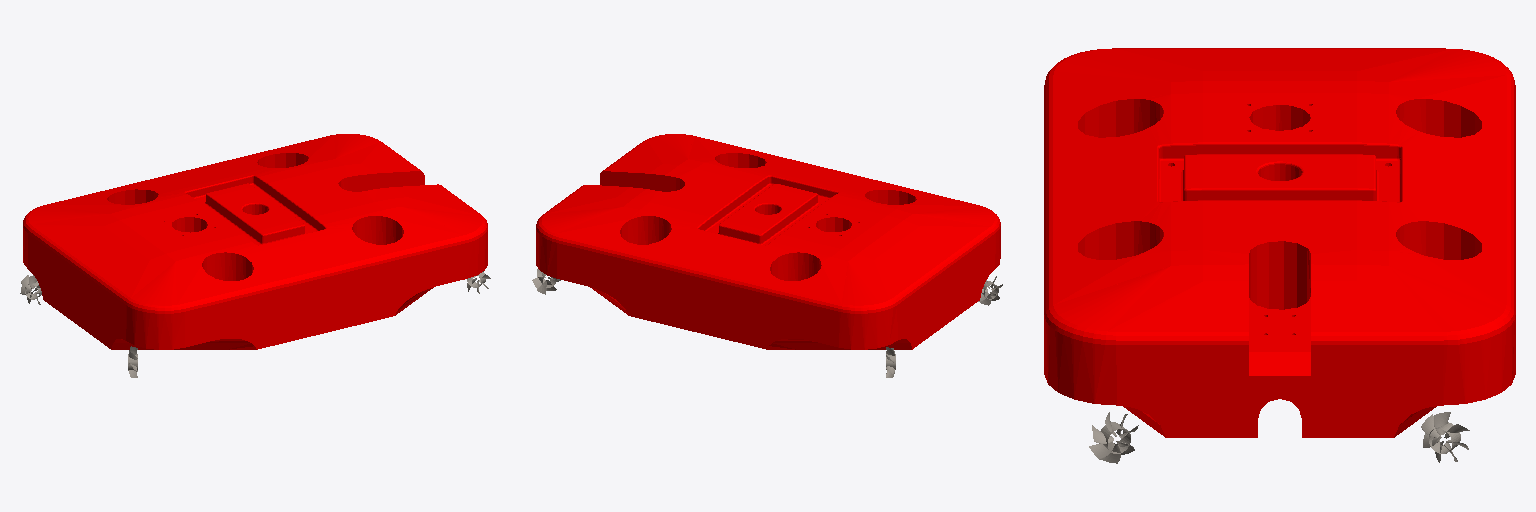
The robot description file, URDF, robot "rrov":
<?xml version="1.0" encoding="utf-8"?>
<!-- This URDF was automatically created by SolidWorks to URDF Exporter! Originally created by [author] ([email redacted]) 
     Commit Version: 1.5.1-0-g916b5db  Build Version: 1.5.7152.31018
     For more information, please see http://wiki.ros.org/sw_urdf_exporter -->
<robot
  name="rrov">

  <gazebo>
    <plugin name="uuv-gazebo-plugins" filename="libuuv-gazebo-plugins.so">
      <robotNamespace>/rrov</robotNamespace>
      <robotSimType>gazebo_ros_control/DefaultRobotHWSim</robotSimType>
      <legacyModeNS>true</legacyModeNS>
    </plugin>
  </gazebo>

  <link name="dummy">
  </link>
  <joint name="dummy_joint" type="fixed">
     <parent link="dummy"/>
     <child link="base_link"/>
  </joint>
  <link
    name="base_link">
    <inertial>
      <origin
        xyz="-0.052446 0.075709 0.0034292"
        rpy="0 0 0" />
      <mass
        value="30" />
      <inertia
        ixx="0.35714"
        ixy="0.00034791"
        ixz="-0.00017005"
        iyy="0.90016"
        iyz="2.0776E-05"
        izz="0.64952" />
    </inertial>
    <visual>
      <origin
        xyz="0 0 0"
        rpy="0 0 0" />
      <geometry>
        <mesh
          filename="package://rrov_description/meshes/base_link.STL" />
      </geometry>
      <material
        name="">
        <color
          rgba="0.75294 0.75294 0.75294 1" />
      </material>
    </visual>
    <collision>
      <origin
        xyz="0 0 0"
        rpy="0 0 0" />
      <geometry>
        <mesh
          filename="package://rrov_description/meshes/base_link.STL" />
      </geometry>
    </collision>
  </link>

  <gazebo reference="buoyancy_material_link">
    <material>Gazebo/Red</material>
  </gazebo>

  <!-- Link2 -->
  <gazebo reference="T11_link">
    <mu1>0.2</mu1>
    <mu2>0.2</mu2>
    <material>Gazebo/Black</material>
  </gazebo>

  <link
    name="buoyancy_material_link">
    <inertial>
      <origin
        xyz="0.0069296 0.088895 0.0005554"
        rpy="0 0 0" />
      <mass
        value="40" />
      <inertia
        ixx="1.6738"
        ixy="-0.00077039"
        ixz="0.0027143"
        iyy="5.0917"
        iyz="0.0018896"
        izz="3.6542" />
    </inertial>
    <visual>
      <origin
        xyz="0 0 0"
        rpy="0 0 0" />
      <geometry>
        <mesh
          filename="package://rrov_description/meshes/buoyancy_material_link.STL" />
      </geometry>
      <material
        name="">
        <color
          rgba="1 0 0 1" />
      </material>
    </visual>
    <collision>
      <origin
        xyz="0 0 0"
        rpy="0 0 0" />
      <geometry>
        <mesh
          filename="package://rrov_description/meshes/buoyancy_material_link.STL" />
      </geometry>
    </collision>
  </link>
  <joint
    name="buoyancy_material_joint"
    type="fixed">
    <origin
      xyz="0 0 0.155"
      rpy="1.5708 0 -3.1416" />
    <parent
      link="base_link" />
    <child
      link="buoyancy_material_link" />
    <axis
      xyz="0 0 0" />
  </joint>
  <link
    name="cam_link">
    <inertial>
      <origin
        xyz="-0.088954 -6.7906E-05 4.7463E-05"
        rpy="0 0 0" />
      <mass
        value="2" />
      <inertia
        ixx="1.3354E-06"
        ixy="2.6122E-08"
        ixz="-1.8248E-08"
        iyy="5.4796E-06"
        iyz="9.635E-09"
        izz="5.4866E-06" />
    </inertial>
    <visual>
      <origin
        xyz="0 0 0"
        rpy="0 0 0" />
      <geometry>
        <mesh
          filename="package://rrov_description/meshes/cam_link.STL" />
      </geometry>
      <material
        name="">
        <color
          rgba="0.9 0.9 0.9 1" />
      </material>
    </visual>
    <collision>
      <origin
        xyz="0 0 0"
        rpy="0 0 0" />
      <geometry>
        <mesh
          filename="package://rrov_description/meshes/cam_link.STL" />
      </geometry>
    </collision>
  </link>
  <gazebo reference="cam_link">
    <material>Gazebo/Black</material>
  </gazebo>

  <joint
    name="cam_joint"
    type="fixed">
    <origin
      xyz="0.45317 0 0.35241"
      rpy="1.5708 0.88591 0" />
    <parent
      link="base_link" />
    <child
      link="cam_link" />
    <axis
      xyz="0 0 0" />
  </joint>
  <link
    name="T11_link">
    <inertial>
      <origin
        xyz="-0.43825 -0.043475 -0.31842"
        rpy="0 0 0" />
      <mass
        value="0.1" />
      <inertia
        ixx="8.1264"
        ixy="-0.56243"
        ixz="-2.1666"
        iyy="11.237"
        iyz="-0.52469"
        izz="5.4993" />
    </inertial>
    <visual>
      <origin
        xyz="0 0 0"
        rpy="0 0 0" />
      <geometry>
        <mesh
          filename="package://rrov_description/meshes/T11_link.STL" />
      </geometry>
      <material
        name="">
        <color
          rgba="0.64706 0.61961 0.58824 1" />
      </material>
    </visual>
    <collision>
      <origin
        xyz="0 0 0"
        rpy="0 0 0" />
      <geometry>
        <mesh
          filename="package://rrov_description/meshes/T11_link.STL" />
      </geometry>
    </collision>
  </link>
  <joint
    name="T11_joint"
    type="continuous">
    <origin
      xyz="0.46987 0.2207 0.14751"
      rpy="1.5708 0.131 1.0472" />
    <parent
      link="base_link" />
    <child
      link="T11_link" />
    <axis
      xyz="0 0 1" />
    <dynamics damping="0.7"/>
    <limit effort="1000" velocity="1000"/>
  </joint>
  <link
    name="T12_link">
    <inertial>
      <origin
        xyz="-0.073524 0.43194 -0.31945"
        rpy="0 0 0" />
      <mass
        value="0.1" />
      <inertia
        ixx="11.306"
        ixy="0.31089"
        ixz="-0.061727"
        iyy="8.0766"
        iyz="2.218"
        izz="5.4806" />
    </inertial>
    <visual>
      <origin
        xyz="0 0 0"
        rpy="0 0 0" />
      <geometry>
        <mesh
          filename="package://rrov_description/meshes/T12_link.STL" />
      </geometry>
      <material
        name="">
        <color
          rgba="0.64706 0.61961 0.58824 1" />
      </material>
    </visual>
    <collision>
      <origin
        xyz="0 0 0"
        rpy="0 0 0" />
      <geometry>
        <mesh
          filename="package://rrov_description/meshes/T12_link.STL" />
      </geometry>
    </collision>
  </link>
  <joint
    name="T12_joint"
    type="continuous">
    <origin
      xyz="0.46964 -0.22082 0.1475"
      rpy="-1.5708 1.4345 -1.0472" />
    <parent
      link="base_link" />
    <child
      link="T12_link" />
    <axis
      xyz="0 0 1" />
    <limit effort="100" velocity="100"/>
  </joint>
  <link
    name="T13_link">
    <inertial>
      <origin
        xyz="0.39594 0.12244 -0.2733"
        rpy="0 0 0" />
      <mass
        value="0.1" />
      <inertia
        ixx="8.3471"
        ixy="-0.94713"
        ixz="2.0652"
        iyy="11.035"
        iyz="0.81112"
        izz="5.4806" />
    </inertial>
    <visual>
      <origin
        xyz="0 0 0"
        rpy="0 0 0" />
      <geometry>
        <mesh
          filename="package://rrov_description/meshes/T13_link.STL" />
      </geometry>
      <material
        name="">
        <color
          rgba="0.64706 0.61961 0.58824 1" />
      </material>
    </visual>
    <collision>
      <origin
        xyz="0 0 0"
        rpy="0 0 0" />
      <geometry>
        <mesh
          filename="package://rrov_description/meshes/T13_link.STL" />
      </geometry>
    </collision>
  </link>
  <joint
    name="T13_joint"
    type="continuous">
    <origin
      xyz="-0.46975 0.22076 0.14751"
      rpy="1.5708 0.26578 -1.0472" />
    <parent
      link="base_link" />
    <child
      link="T13_link" />
    <axis
      xyz="0 0 1" />
    <limit effort="100" velocity="100"/>
  </joint>
  <link
    name="T14_link">
    <inertial>
      <origin
        xyz="0.082416 -0.4039 -0.27425"
        rpy="0 0 0" />
      <mass
        value="0.1" />
      <inertia
        ixx="11.214"
        ixy="0.62313"
        ixz="0.28686"
        iyy="8.1497"
        iyz="-2.2107"
        izz="5.4993" />
    </inertial>
    <visual>
      <origin
        xyz="0 0 0"
        rpy="0 0 0" />
      <geometry>
        <mesh
          filename="package://rrov_description/meshes/T14_link.STL" />
      </geometry>
      <material
        name="">
        <color
          rgba="0.64706 0.61961 0.58824 1" />
      </material>
    </visual>
    <collision>
      <origin
        xyz="0 0 0"
        rpy="0 0 0" />
      <geometry>
        <mesh
          filename="package://rrov_description/meshes/T14_link.STL" />
      </geometry>
    </collision>
  </link>
  <joint
    name="T14_joint"
    type="continuous">
    <origin
      xyz="-0.46947 -0.22095 0.1475"
      rpy="-1.5708 1.3352 1.0472" />
    <parent
      link="base_link" />
    <child
      link="T14_link" />
    <axis
      xyz="0 0 1" />
    <limit effort="100" velocity="100"/>
  </joint>
  <link
    name="T21_link">
    <inertial>
      <origin
        xyz="-0.27728 0.15216 -0.034069"
        rpy="0 0 0" />
      <mass
        value="0.1" />
      <inertia
        ixx="8.885"
        ixy="1.4252"
        ixz="-0.082725"
        iyy="4.6481"
        iyz="0.26292"
        izz="11.33" />
    </inertial>
    <visual>
      <origin
        xyz="0 0 0"
        rpy="0 0 0" />
      <geometry>
        <mesh
          filename="package://rrov_description/meshes/T21_link.STL" />
      </geometry>
      <material
        name="">
        <color
          rgba="0.27059 0.27059 0.27059 1" />
      </material>
    </visual>
    <collision>
      <origin
        xyz="0 0 0"
        rpy="0 0 0" />
      <geometry>
        <mesh
          filename="package://rrov_description/meshes/T21_link.STL" />
      </geometry>
    </collision>
  </link>
  <joint
    name="T21_joint"
    type="continuous">
    <origin
      xyz="0.2 0.22 0.19573"
      rpy="0 0 1.2768" />
    <parent
      link="base_link" />
    <child
      link="T21_link" />
    <axis
      xyz="0 0 1" />
    <limit effort="100" velocity="100"/>
  </joint>
  <link
    name="T22_link">
    <inertial>
      <origin
        xyz="-0.25061 -0.18999 -0.033796"
        rpy="0 0 0" />
      <mass
        value="0.1" />
      <inertia
        ixx="9.2043"
        ixy="-0.75915"
        ixz="-0.039066"
        iyy="4.3288"
        iyz="-0.27284"
        izz="11.33" />
    </inertial>
    <visual>
      <origin
        xyz="0 0 0"
        rpy="0 0 0" />
      <geometry>
        <mesh
          filename="package://rrov_description/meshes/T22_link.STL" />
      </geometry>
      <material
        name="">
        <color
          rgba="0.27059 0.27059 0.27059 1" />
      </material>
    </visual>
    <collision>
      <origin
        xyz="0 0 0"
        rpy="0 0 0" />
      <geometry>
        <mesh
          filename="package://rrov_description/meshes/T22_link.STL" />
      </geometry>
    </collision>
  </link>
  <joint
    name="T22_joint"
    type="continuous">
    <origin
      xyz="0.2 -0.22 0.19545"
      rpy="0 0 -1.4177" />
    <parent
      link="base_link" />
    <child
      link="T22_link" />
    <axis
      xyz="0 0 1" />
    <limit effort="100" velocity="100"/>
  </joint>
  <link
    name="T23_link">
    <inertial>
      <origin
        xyz="0.25593 -0.11727 -0.033957"
        rpy="0 0 0" />
      <mass
        value="0.1" />
      <inertia
        ixx="5.289"
        ixy="-2.0823"
        ixz="-0.24377"
        iyy="8.2441"
        iyz="-0.12864"
        izz="11.33" />
    </inertial>
    <visual>
      <origin
        xyz="0 0 0"
        rpy="0 0 0" />
      <geometry>
        <mesh
          filename="package://rrov_description/meshes/T23_link.STL" />
      </geometry>
      <material
        name="">
        <color
          rgba="0.27059 0.27059 0.27059 1" />
      </material>
    </visual>
    <collision>
      <origin
        xyz="0 0 0"
        rpy="0 0 0" />
      <geometry>
        <mesh
          filename="package://rrov_description/meshes/T23_link.STL" />
      </geometry>
    </collision>
  </link>
  <joint
    name="T23_joint"
    type="continuous">
    <origin
      xyz="-0.2 0.22 0.19561"
      rpy="0 0 -0.47473" />
    <parent
      link="base_link" />
    <child
      link="T23_link" />
    <axis
      xyz="0 0 1" />
    <limit effort="100" velocity="100"/>
  </joint>
  <link
    name="T24_link">
    <inertial>
      <origin
        xyz="0 0 0"
        rpy="0 0 0" />
      <mass
        value="0.1" />
      <inertia
        ixx="0"
        ixy="0"
        ixz="0"
        iyy="0"
        iyz="0"
        izz="0" />
    </inertial>
    <visual>
      <origin
        xyz="0 0 0"
        rpy="0 0 0" />
      <geometry>
        <mesh
          filename="package://rrov_description/meshes/T24_link.STL" />
      </geometry>
      <material
        name="">
        <color
          rgba="1 1 1 1" />
      </material>
    </visual>
    <collision>
      <origin
        xyz="0 0 0"
        rpy="0 0 0" />
      <geometry>
        <mesh
          filename="package://rrov_description/meshes/T24_link.STL" />
      </geometry>
    </collision>
  </link>
  <joint
    name="T24_joint"
    type="continuous">
    <origin
      xyz="-0.2 -0.22 0.1956"
      rpy="0 0 0.023762" />
    <parent
      link="base_link" />
    <child
      link="T24_link" />
    <axis
      xyz="0 0 1" />
    <limit effort="100" velocity="100"/>
  </joint>

  <transmission name="T11_tran">
    <type>transmission_interface/SimpleTransmission</type>
    <joint name="T11_joint">
      <hardwareInterface>EffortJointInterface</hardwareInterface>
    </joint>
    <actuator name="T11_motor">
      <hardwareInterface>EffortJointInterface</hardwareInterface>
      <mechanicalReduction>1</mechanicalReduction>
    </actuator>
  </transmission>

    <transmission name="T12_tran">
    <type>transmission_interface/SimpleTransmission</type>
    <joint name="T12_joint">
      <hardwareInterface>EffortJointInterface</hardwareInterface>
    </joint>
    <actuator name="T12_motor">
      <hardwareInterface>EffortJointInterface</hardwareInterface>
      <mechanicalReduction>1</mechanicalReduction>
    </actuator>
  </transmission>

    <transmission name="T13_tran">
    <type>transmission_interface/SimpleTransmission</type>
    <joint name="T13_joint">
      <hardwareInterface>EffortJointInterface</hardwareInterface>
    </joint>
    <actuator name="T13_motor">
      <hardwareInterface>EffortJointInterface</hardwareInterface>
      <mechanicalReduction>1</mechanicalReduction>
    </actuator>
  </transmission>

    <transmission name="T14_tran">
    <type>transmission_interface/SimpleTransmission</type>
    <joint name="T14_joint">
      <hardwareInterface>EffortJointInterface</hardwareInterface>
    </joint>
    <actuator name="T14_motor">
      <hardwareInterface>EffortJointInterface</hardwareInterface>
      <mechanicalReduction>1</mechanicalReduction>
    </actuator>
  </transmission>
  
</robot>

--- Facts derived from the render (not from the file) ---
The picture shows the robot from 3 angles, left to right: view 1: azimuth 30°, elevation 25°; view 2: azimuth 150°, elevation 25°; view 3: azimuth 270°, elevation 25°; orthographic projection.
Robot: rrov — 12 links, 11 joints (8 continuous, 3 fixed); root link dummy; default pose: every joint at zero.
Links seen in each view (by area): view 1: buoyancy_material_link; view 2: buoyancy_material_link; view 3: buoyancy_material_link, T12_link, T11_link.
Boxes of the visible links, bbox=[...] form: buoyancy_material_link: bbox=[23, 134, 487, 349]; buoyancy_material_link: bbox=[536, 134, 1000, 349]; buoyancy_material_link: bbox=[1044, 48, 1515, 437]; T12_link: bbox=[1089, 412, 1138, 463]; T11_link: bbox=[1421, 412, 1469, 462].
Size in the robot's own frame: 0.9615 by 0.65 by 0.2293 metres.
8 mesh visuals loaded from 11 distinct referenced files (8 binary STL); not drawn: 3 (reference not matched to a file when rendering).
